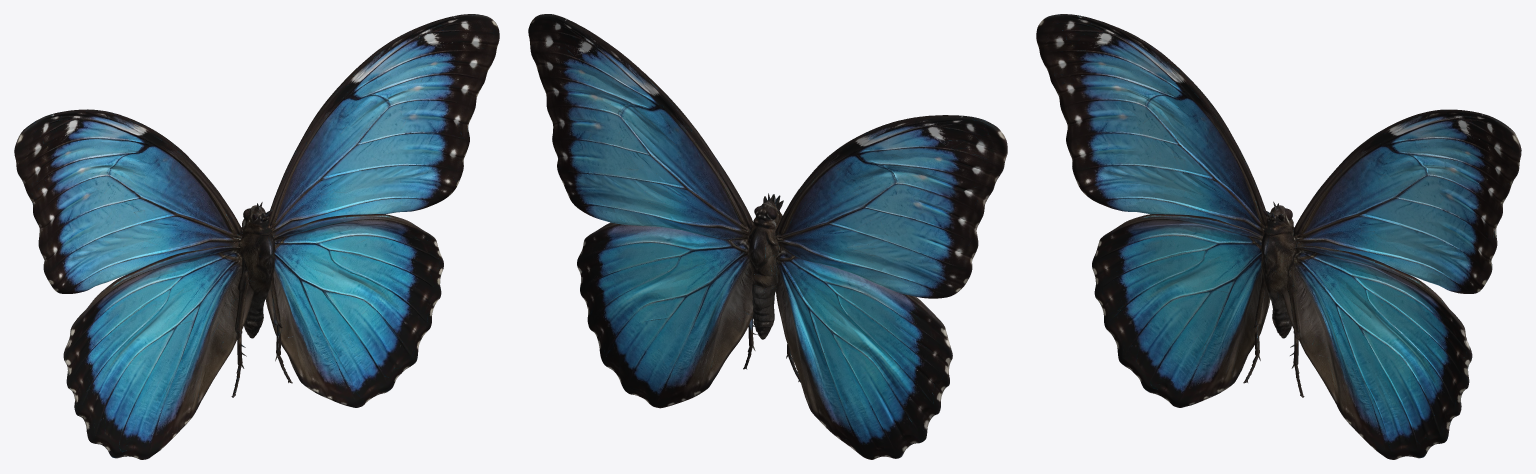
File: morpho.glb
3 views of the same model, side by side, from view 1: azimuth 30°, elevation 25°; view 2: azimuth 150°, elevation 25°; view 3: azimuth 330°, elevation 25° (orthographic).
Parts seen in each view (by area): view 1: Mesh_0; view 2: Mesh_0; view 3: Mesh_0.
Part boxes in pixels (x1=…): Mesh_0: x1=14, y1=14, x2=499, y2=459; Mesh_0: x1=528, y1=14, x2=1007, y2=459; Mesh_0: x1=1036, y1=14, x2=1521, y2=459.
Bounding box in the file's own units: 1.9 × 1.38 × 0.188.
Materials: 1 (1 with a texture image).
